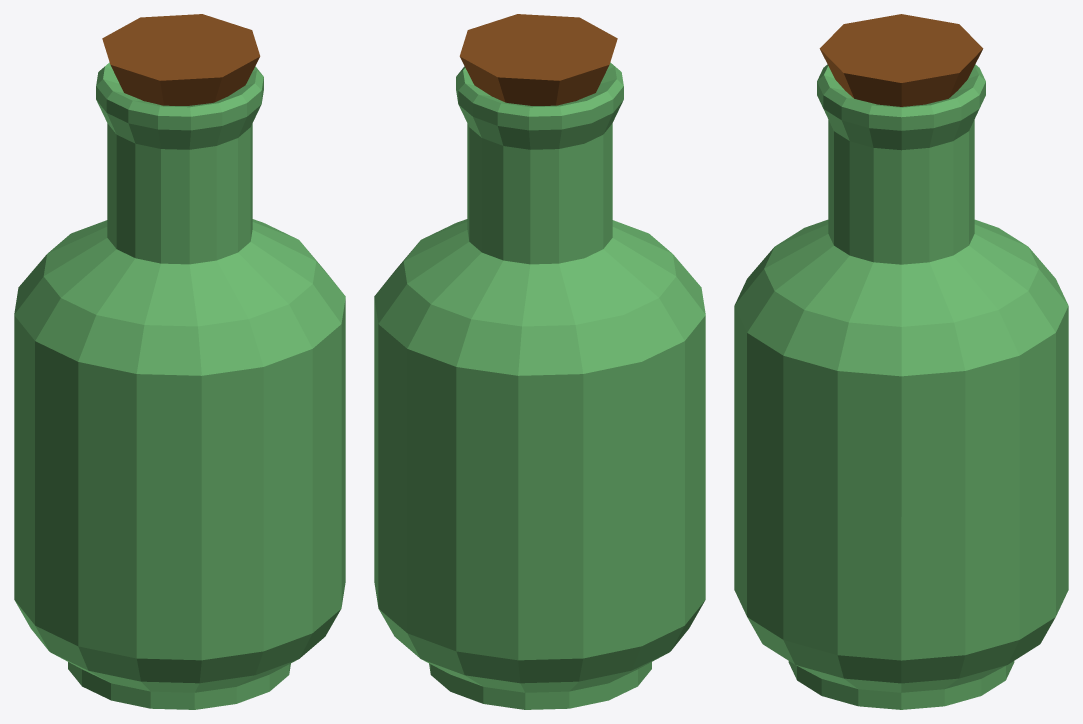
File: fixedPotionBottle1.fbx
3 renders of one model, left to right at view 1: azimuth 30°, elevation 25°; view 2: azimuth 150°, elevation 25°; view 3: azimuth 270°, elevation 25°, orthographic.
Visible parts, largest first — view 1: Cylinder, Cylinder.001; view 2: Cylinder, Cylinder.001; view 3: Cylinder, Cylinder.001.
Boxes of the visible parts, x1=… form: Cylinder: x1=14, y1=62, x2=345, y2=709; Cylinder.001: x1=102, y1=14, x2=260, y2=105; Cylinder: x1=374, y1=62, x2=705, y2=709; Cylinder.001: x1=459, y1=14, x2=617, y2=105; Cylinder: x1=734, y1=64, x2=1068, y2=709; Cylinder.001: x1=819, y1=14, x2=983, y2=106.
Size of the model in its own units: 200 by 406 by 200.
